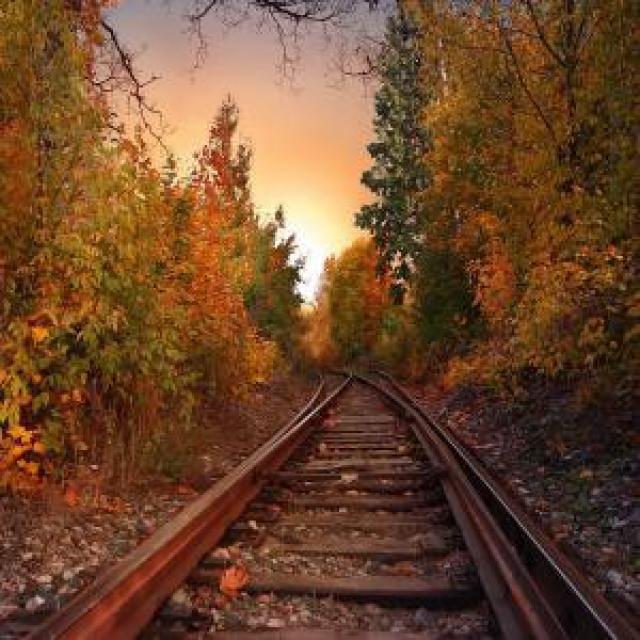rail: (0, 359, 640, 640)
